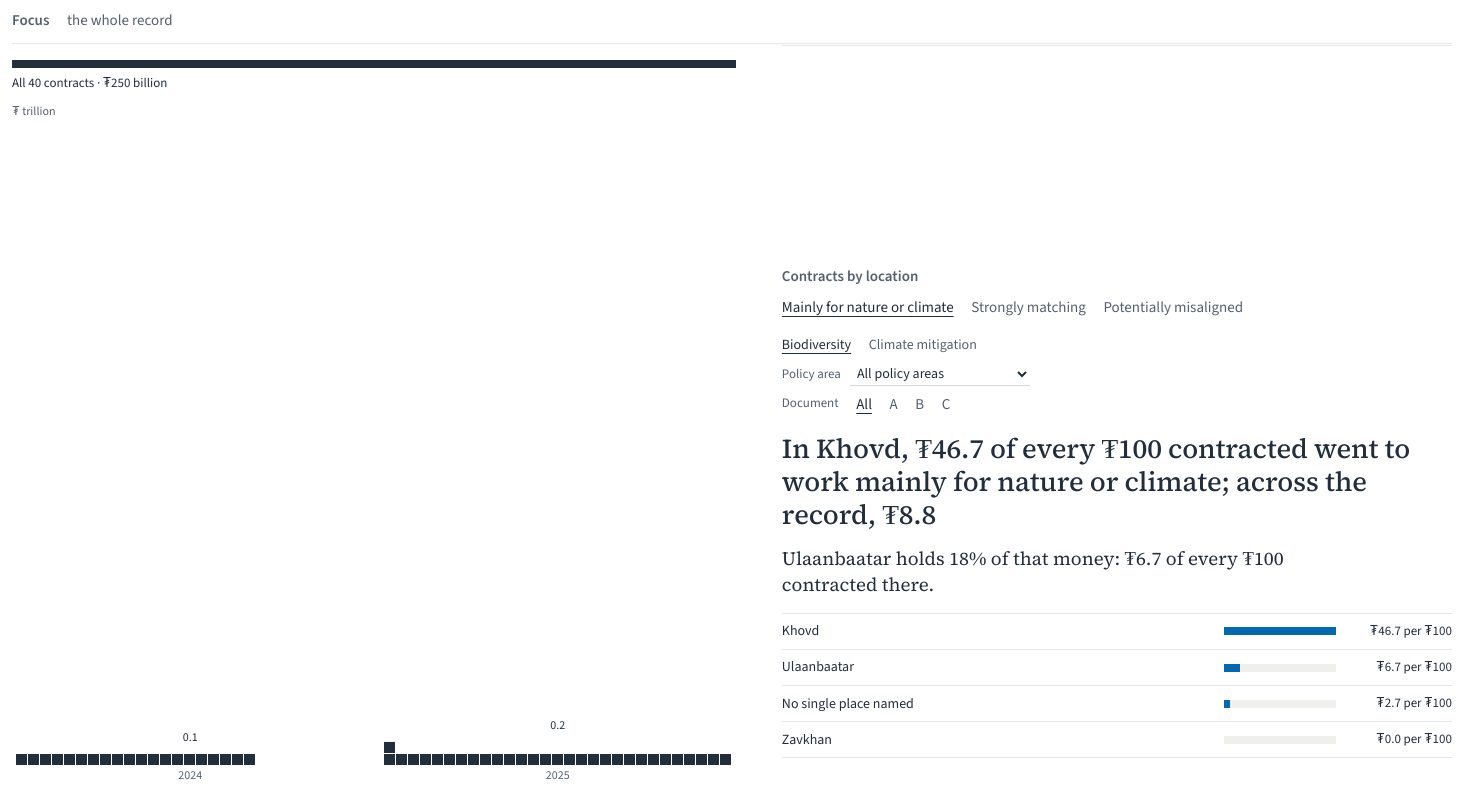
it: ContractsSection › lets a document in focus go when the brief leaves it out, for good
(page scrolled)
Step 1. Click the button "C" → x=946, y=405, box [942,393,950,417]
(page scrolled)
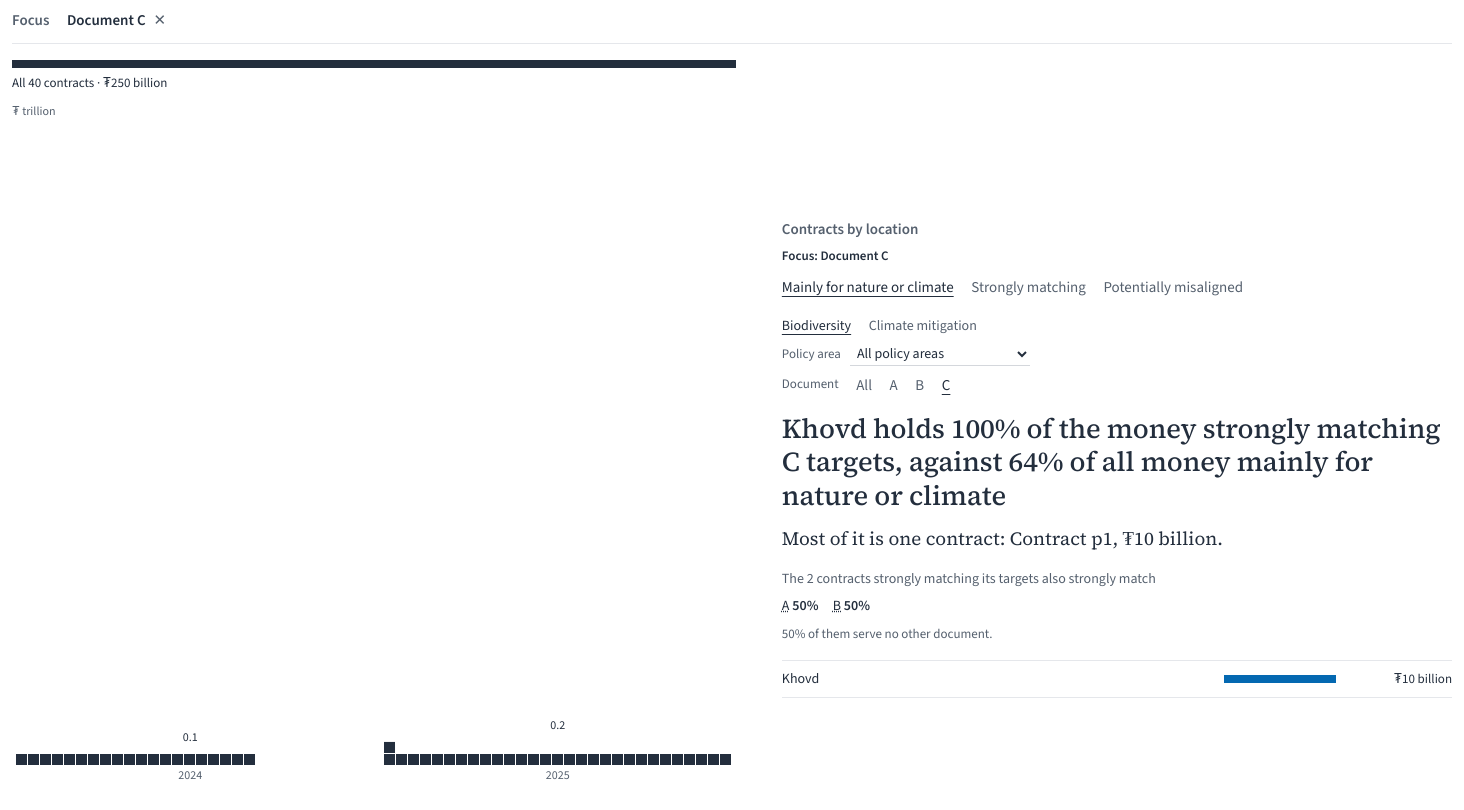
Check: the element "Focus" shows "Document C", box [67,11,146,32]
